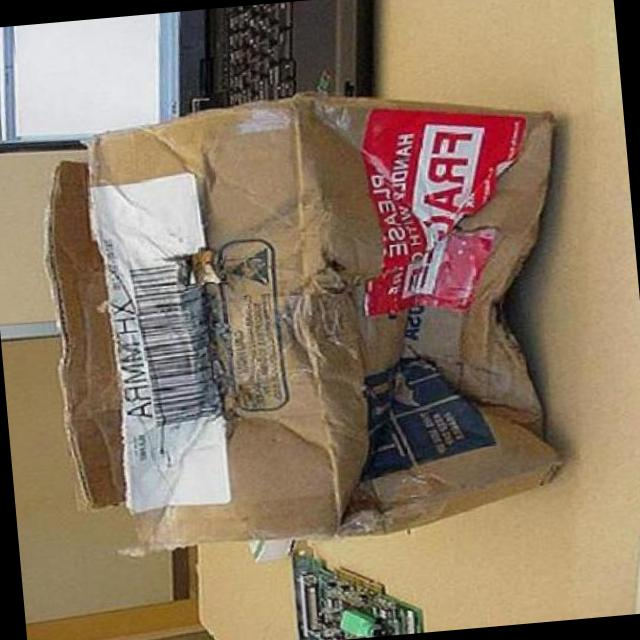box: (43, 90, 563, 555)
crushed: (293, 96, 553, 538), (189, 200, 288, 450)
tear: (46, 124, 136, 519), (173, 249, 221, 285)
